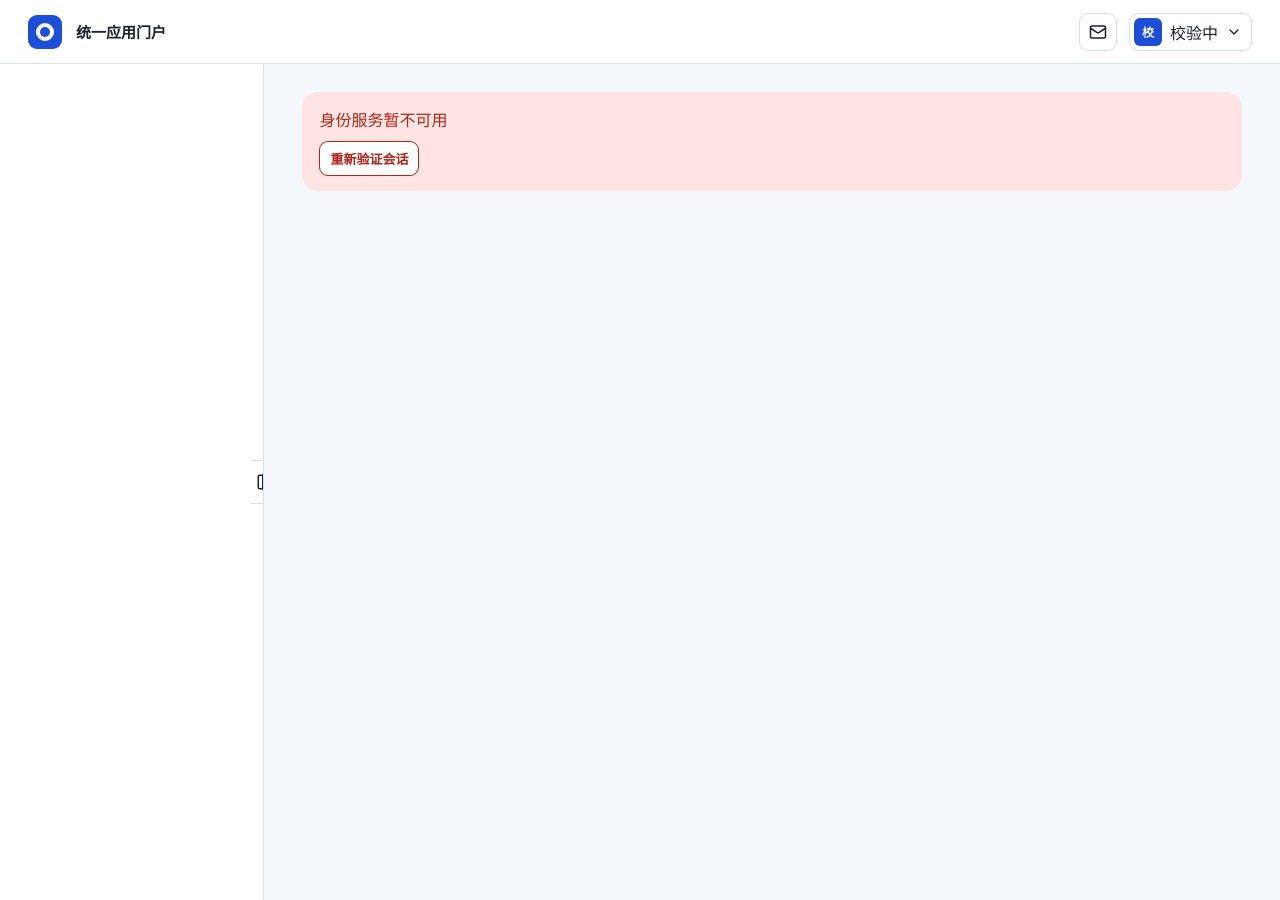
Test: Portal App › 认证读取失败时应提供重新验证会话入口
This screenshot has width=1280, height=900.
Click the button "重新验证会话". click: point(369, 158)
box: x1=319 y1=141 x2=419 y2=176
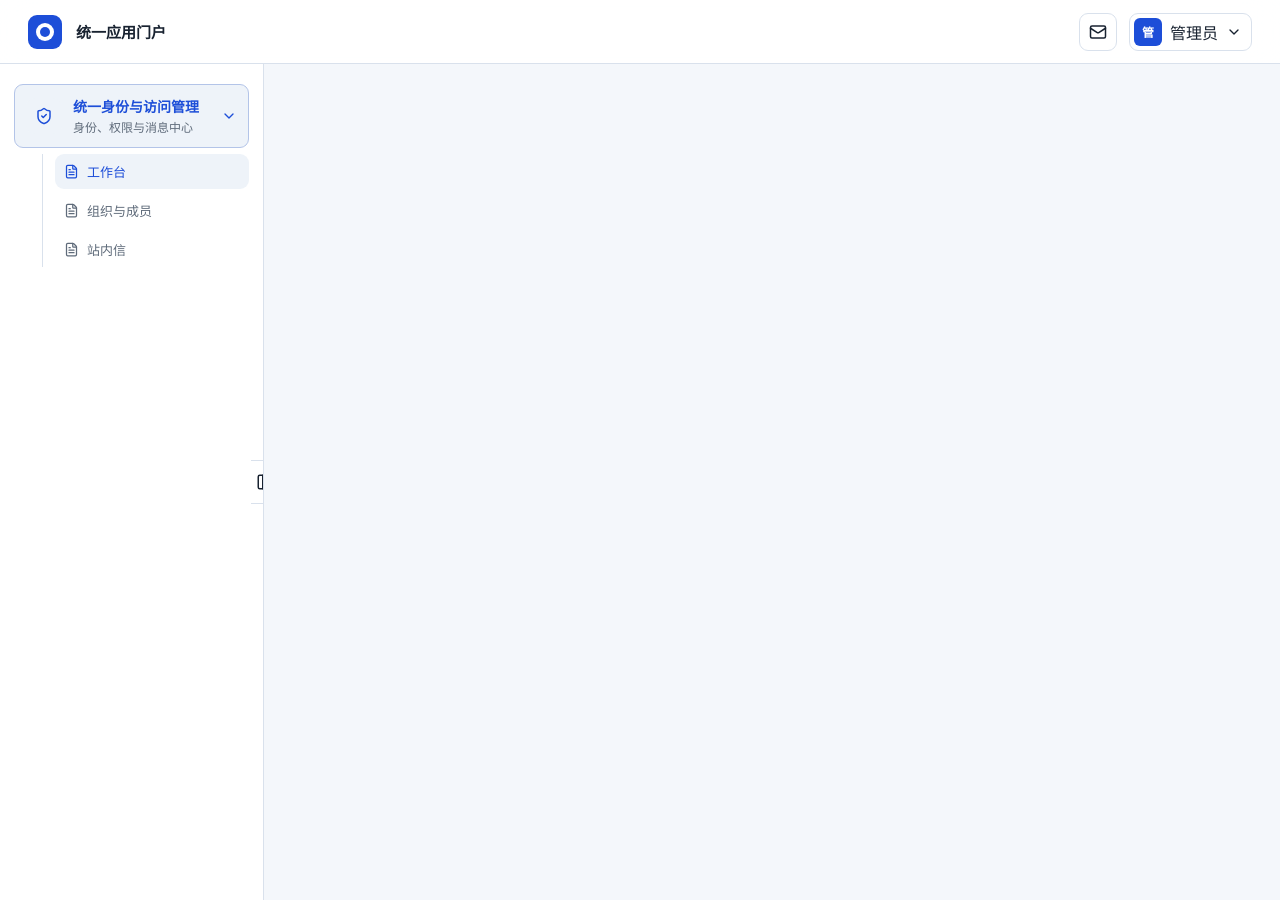
Now the text "管理员" is shown, box x1=1170 y1=20 x2=1218 y2=44
Now the text "组织与成员" is shown, box x1=87 y1=201 x2=152 y2=220
